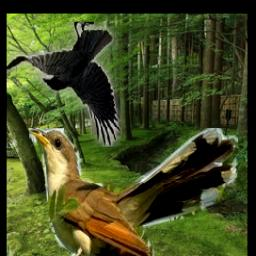Crow: (7, 22, 121, 147)
Cuckoo: (29, 128, 238, 256)
